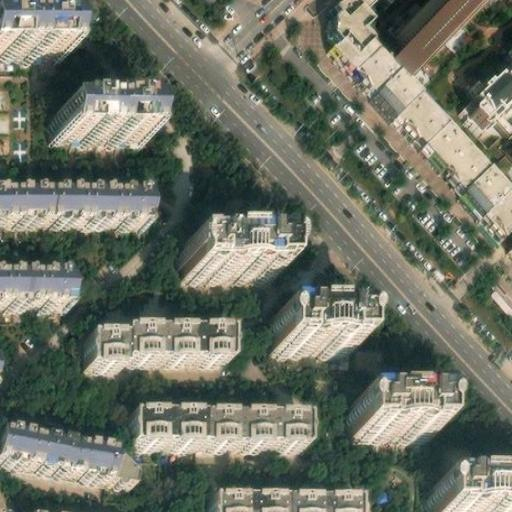building: (339, 13, 512, 229), (0, 429, 131, 484), (125, 415, 300, 450), (77, 325, 218, 365), (0, 195, 144, 224), (188, 239, 279, 275), (347, 401, 437, 436), (48, 109, 134, 141), (265, 318, 351, 350), (208, 494, 355, 512), (427, 484, 512, 512), (0, 271, 70, 303), (0, 26, 62, 60)
